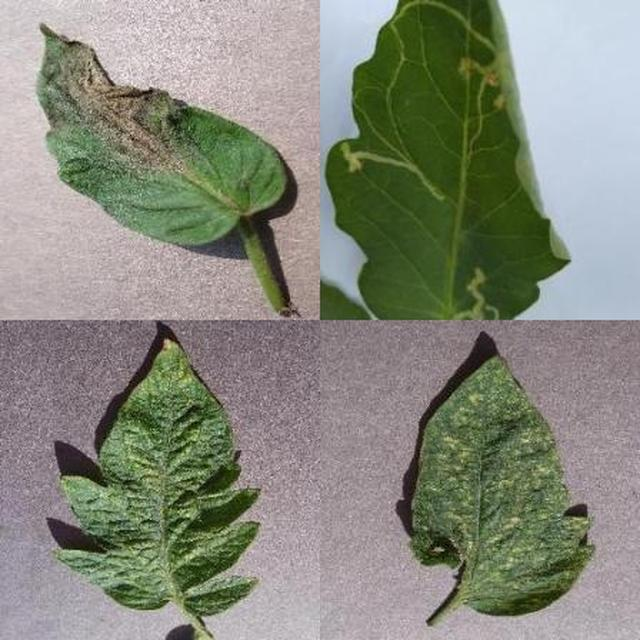Late Blight Leaf: (226, 193, 640, 640)
